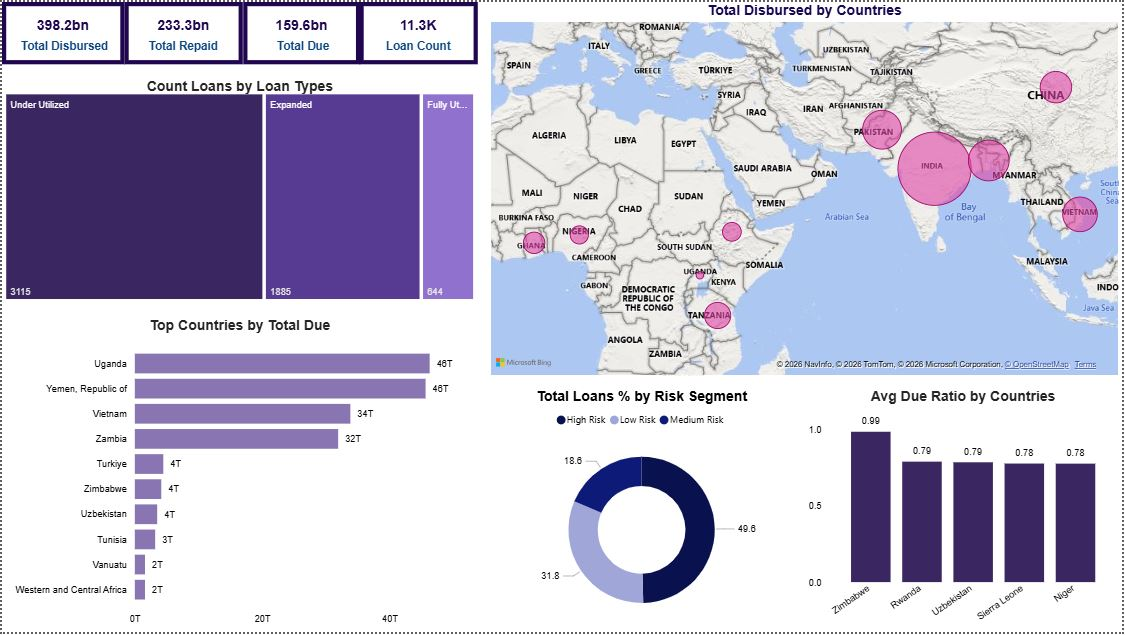

This screenshot's page, from the dashboard's own definition file:
{"tool":"powerbi","page":{"name":"Global Lending Risk & Repayment Dashboard","canvas":[1280,720],"ordinal":0},"visuals":[{"type":"card","fields":{"Values":["Avg(Risk_Base_V2.Total Disbursed)"]},"box":[0,0,140,71.2],"z":0},{"type":"card","fields":{"Values":["Avg(Risk_Base_V2.Total Repaid)"]},"box":[140,0,135,71.2],"z":1000},{"type":"card","fields":{"Values":["Avg(Risk_Base_V2.Total Due)"]},"box":[275,0,133.8,71.2],"z":2000},{"type":"card","fields":{"Values":["CountNonNull(Risk_Base_V2.Loan Count)"]},"box":[408.8,0,135,71.2],"z":3000},{"type":"map","title":"Total Disbursed by Countries","fields":{"Category":["Q1_where's the money going.country"],"Size":["Sum(Q1_where's the money going.total_disbursed)"]},"box":[553.8,0,726.2,431.2],"z":4000},{"type":"columnChart","title":"Avg Due Ratio by Countries","fields":{"Y":["Sum(Q2_who is not paying back.avg_due_ratio)"],"Category":["Q2_who is not paying back.country"]},"box":[917.5,441.2,362.5,278.8],"z":5000},{"type":"donutChart","title":"Total Loans % by Risk Segment","fields":{"Category":["Q3_which loans are risky.risk_segment"],"Y":["CountNonNull(Q3_which loans are risky.total_loans)"],"Series":["Q3_which loans are risky.percentage"]},"box":[553.8,441.2,353.8,278.8],"z":6000},{"type":"clusteredBarChart","title":"Top Countries by Total Due","fields":{"Category":["Risk_Base_V2.country"],"Y":["Sum(Risk_Base_V2.Total Due)"]},"box":[0,360,543.8,360],"z":7000},{"type":"treemap","title":"Count Loans by Loan Types","fields":{"Values":["Sum(loans_type.count_loans)"],"Group":["loans_type.loan_type"]},"box":[0,87.5,543.8,257.5],"z":8000}]}

Visuals, with their boxes in screenshot pixels (x1, y1, x2, y2), scaled from the page's 1280x720 canvas onto the 1125x635 screenshot:
card - Avg(Risk_Base_V2.Total Disbursed): (0, 0, 123, 63)
card - Avg(Risk_Base_V2.Total Repaid): (123, 0, 242, 63)
card - Avg(Risk_Base_V2.Total Due): (242, 0, 359, 63)
card - CountNonNull(Risk_Base_V2.Loan Count): (359, 0, 478, 63)
"Total Disbursed by Countries" map: (487, 0, 1124, 380)
"Avg Due Ratio by Countries" columnChart: (806, 389, 1124, 634)
"Total Loans % by Risk Segment" donutChart: (487, 389, 798, 634)
"Top Countries by Total Due" clusteredBarChart: (0, 318, 478, 634)
"Count Loans by Loan Types" treemap: (0, 77, 478, 304)
